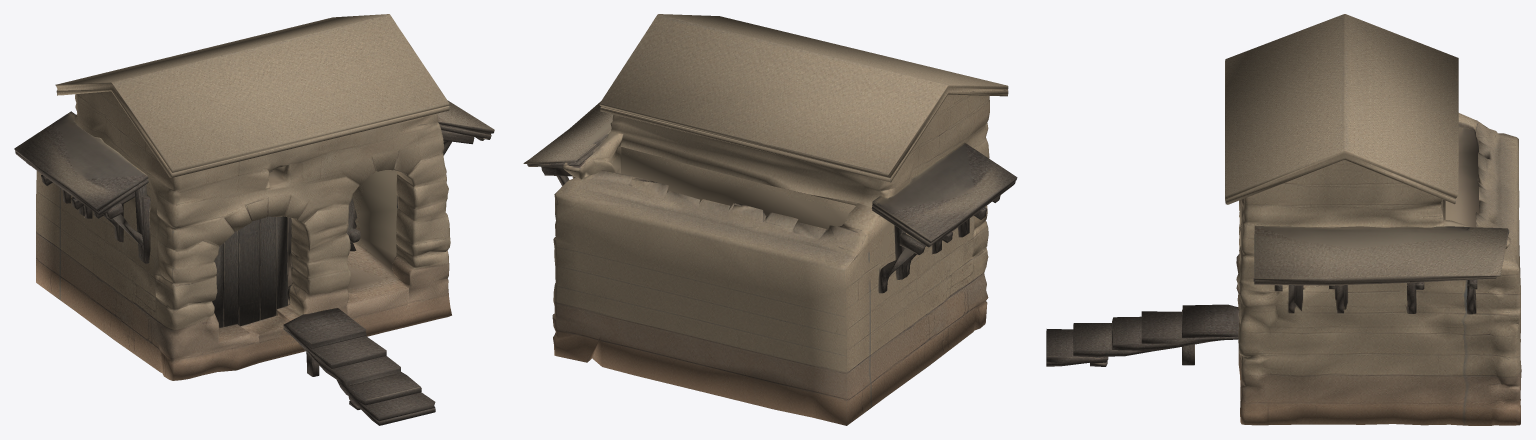
File: degirmen.glb
3 renders of one model, left to right at view 1: azimuth 30°, elevation 25°; view 2: azimuth 150°, elevation 25°; view 3: azimuth 270°, elevation 25°, orthographic. The views are drawn at different scales.
Bounding box in the file's own units: 0.8921 × 0.6001 × 0.9609.
Materials: 1 (1 with a texture image).
